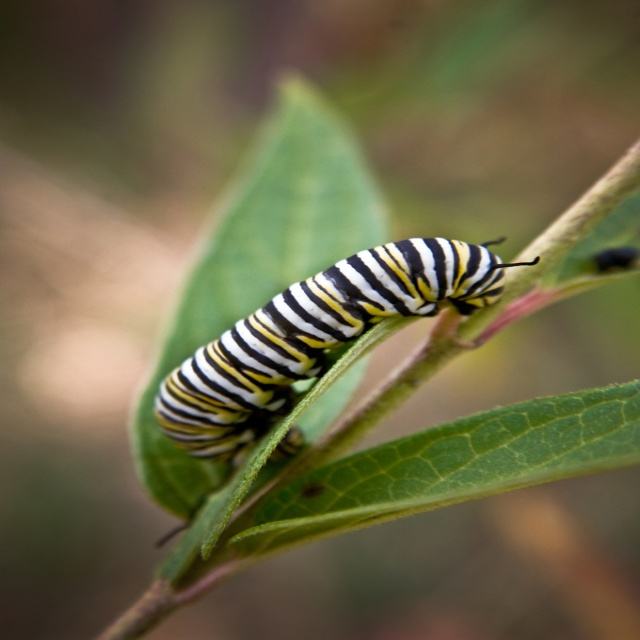Caterpillar: (153, 236, 538, 468)
